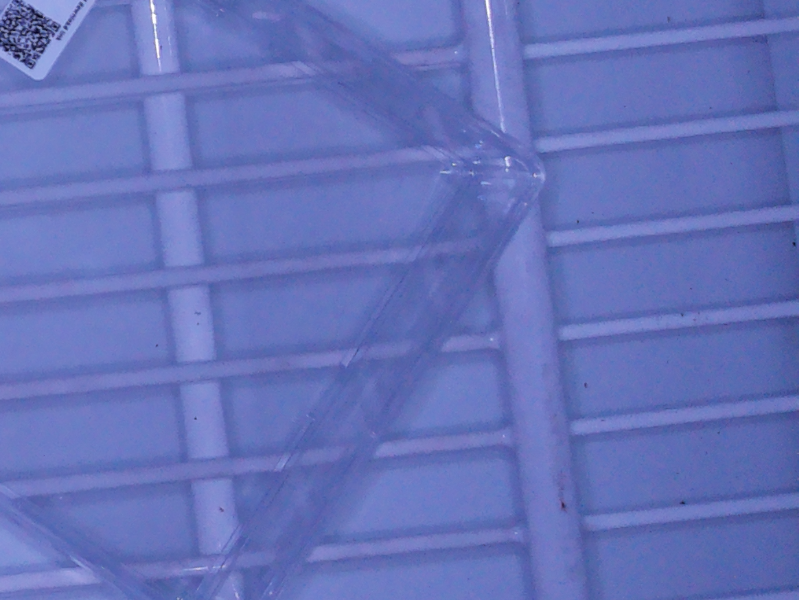plate: (1, 1, 548, 600)
